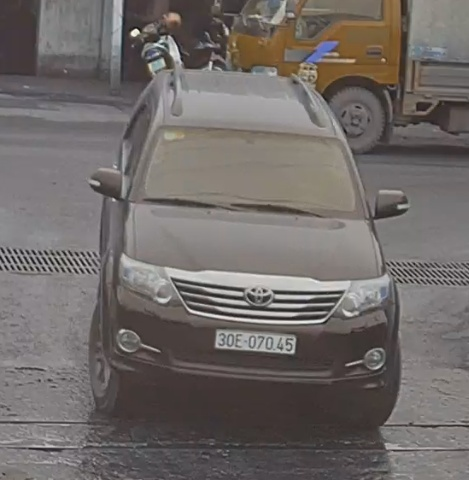vehicle plate: (212, 322, 298, 357)
